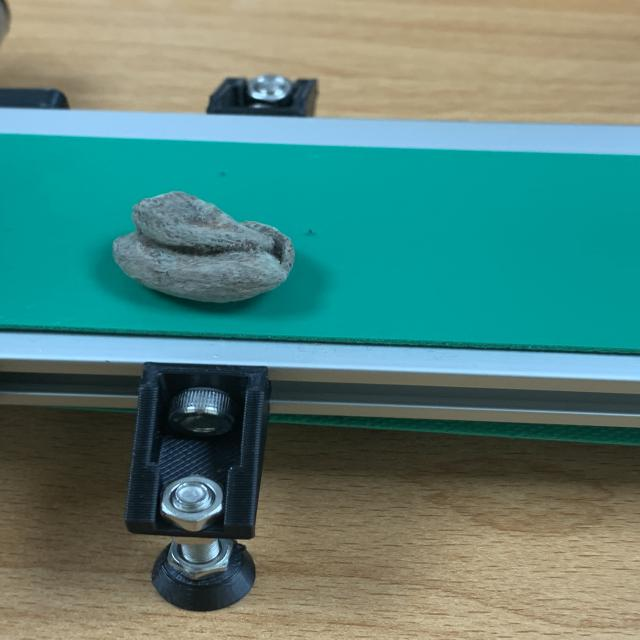Agglomerated_cocoabeans: (37, 163, 376, 332)
